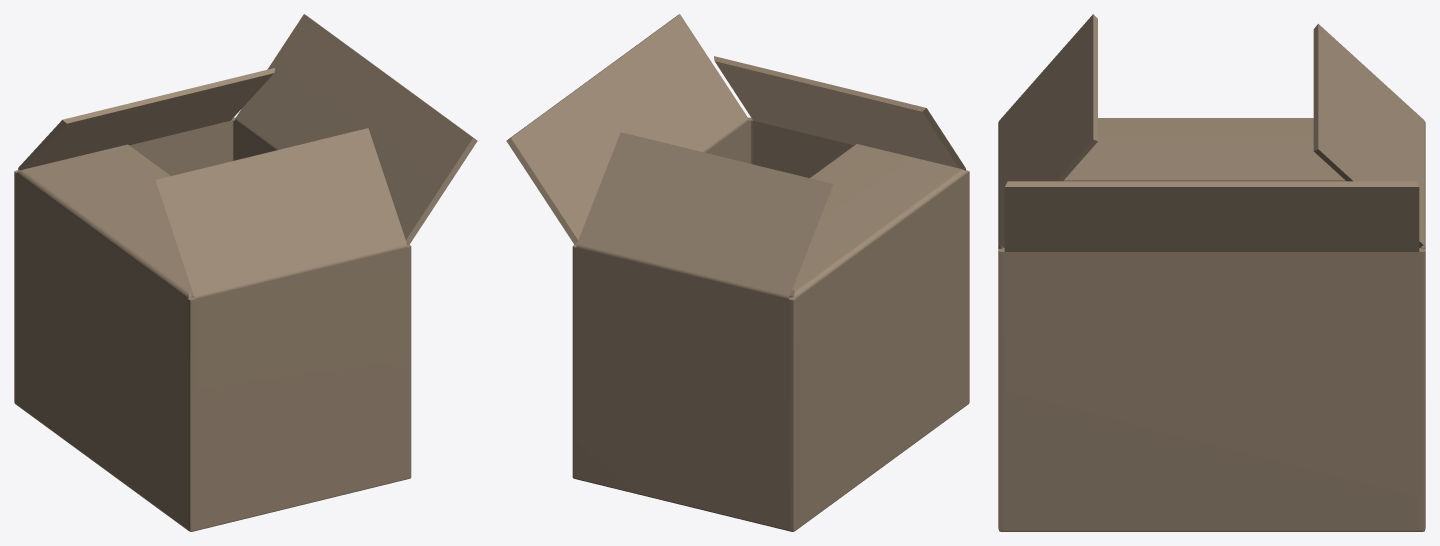
3 renders of one model, left to right at view 1: azimuth 30°, elevation 25°; view 2: azimuth 150°, elevation 25°; view 3: azimuth 270°, elevation 25°, orthographic. The views are drawn at different scales.
Visible parts, largest first — view 1: BOX09; view 2: BOX09; view 3: BOX09.
Boxes of the visible parts, <box> form: BOX09: <box>14,14,477,531</box>; BOX09: <box>506,14,969,531</box>; BOX09: <box>998,14,1425,531</box>.
Bounding box in the file's own units: 0.5222 × 0.556 × 0.5512.
